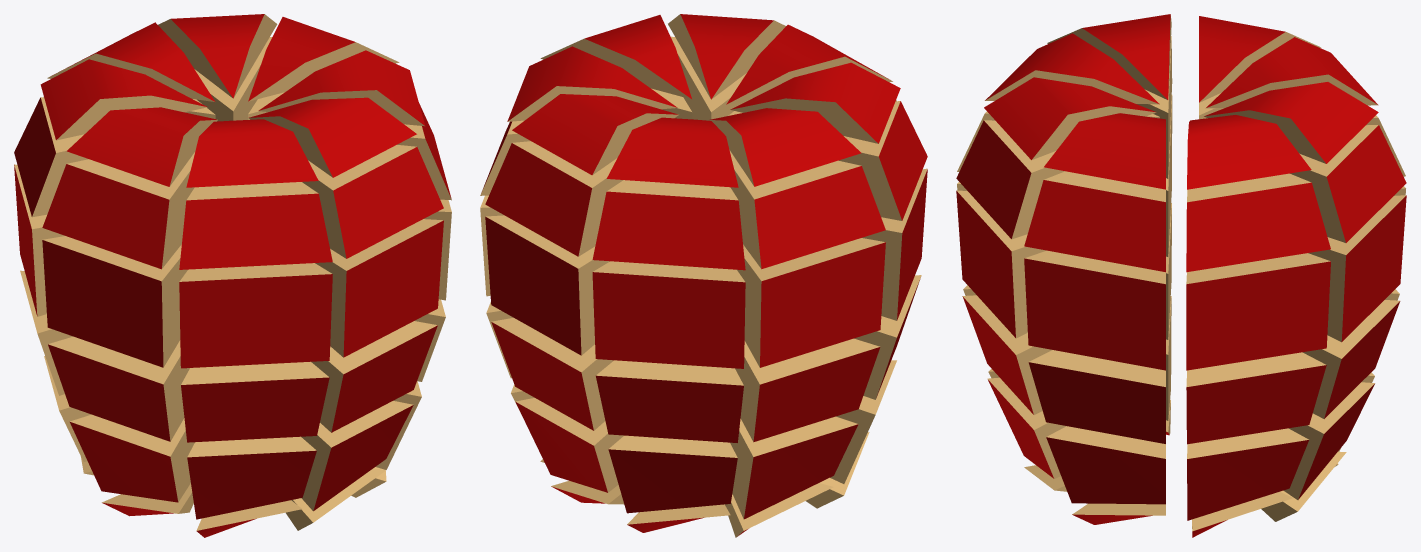
Rendered from mesh_apple_cut04.fbx.
3 views of the same model, side by side, from view 1: azimuth 30°, elevation 25°; view 2: azimuth 150°, elevation 25°; view 3: azimuth 270°, elevation 25° (orthographic).
Parts seen in each view (by area): view 1: mesh_apple_cut04_slice05_piece03, mesh_apple_cut04_slice06_piece03, mesh_apple_cut04_slice05_piece02, mesh_apple_cut04_slice06_piece02, mesh_apple_cut04_slice04_piece03, mesh_apple_cut04_slice05_piece04, mesh_apple_cut04_slice04_piece02, mesh_apple_cut04_slice06_piece04, mesh_apple_cut04_slice05_piece05, mesh_apple_cut04_slice04_piece04, mesh_apple_cut04_slice06_piece05, mesh_apple_cut04_slice06_piece01 (+20 smaller); view 2: mesh_apple_cut04_slice08_piece03, mesh_apple_cut04_slice07_piece03, mesh_apple_cut04_slice08_piece02, mesh_apple_cut04_slice07_piece02, mesh_apple_cut04_slice01_piece03, mesh_apple_cut04_slice08_piece04, mesh_apple_cut04_slice07_piece04, mesh_apple_cut04_slice01_piece02, mesh_apple_cut04_slice08_piece05, mesh_apple_cut04_slice07_piece05, mesh_apple_cut04_slice07_piece01, mesh_apple_cut04_slice01_piece01 (+19 smaller); view 3: mesh_apple_cut04_slice02_piece03, mesh_apple_cut04_slice03_piece03, mesh_apple_cut04_slice02_piece02, mesh_apple_cut04_slice03_piece02, mesh_apple_cut04_slice02_piece04, mesh_apple_cut04_slice03_piece04, mesh_apple_cut04_slice02_piece05, mesh_apple_cut04_slice03_piece05, mesh_apple_cut04_slice01_piece03, mesh_apple_cut04_slice01_piece02, mesh_apple_cut04_slice02_piece01, mesh_apple_cut04_slice04_piece01 (+19 smaller).
Boxes of the visible parts, box(x1,y1,x2,y2) form: mesh_apple_cut04_slice05_piece03: box(179, 263, 332, 368); mesh_apple_cut04_slice06_piece03: box(42, 236, 187, 367); mesh_apple_cut04_slice05_piece02: box(179, 182, 332, 269); mesh_apple_cut04_slice06_piece02: box(42, 152, 194, 269); mesh_apple_cut04_slice04_piece03: box(315, 219, 443, 357); mesh_apple_cut04_slice05_piece04: box(181, 361, 329, 442); mesh_apple_cut04_slice04_piece02: box(302, 145, 443, 258); mesh_apple_cut04_slice06_piece04: box(48, 336, 189, 441); mesh_apple_cut04_slice05_piece05: box(187, 436, 316, 519); mesh_apple_cut04_slice04_piece04: box(311, 321, 437, 432); mesh_apple_cut04_slice06_piece05: box(70, 414, 194, 502); mesh_apple_cut04_slice06_piece01: box(67, 107, 217, 186); mesh_apple_cut04_slice08_piece03: box(592, 261, 745, 368); mesh_apple_cut04_slice07_piece03: box(737, 238, 885, 367); mesh_apple_cut04_slice08_piece02: box(592, 180, 745, 270); mesh_apple_cut04_slice07_piece02: box(729, 150, 885, 269); mesh_apple_cut04_slice01_piece03: box(485, 215, 609, 355); mesh_apple_cut04_slice08_piece04: box(596, 360, 743, 442); mesh_apple_cut04_slice07_piece04: box(735, 338, 880, 442); mesh_apple_cut04_slice01_piece02: box(485, 141, 623, 256); mesh_apple_cut04_slice08_piece05: box(608, 435, 737, 513); mesh_apple_cut04_slice07_piece05: box(730, 416, 858, 519); mesh_apple_cut04_slice07_piece01: box(710, 108, 861, 186); mesh_apple_cut04_slice01_piece01: box(512, 94, 678, 175); mesh_apple_cut04_slice02_piece03: box(1186, 253, 1330, 370); mesh_apple_cut04_slice03_piece03: box(1024, 250, 1165, 370); mesh_apple_cut04_slice02_piece02: box(1186, 173, 1330, 272); mesh_apple_cut04_slice03_piece02: box(1024, 171, 1165, 272); mesh_apple_cut04_slice02_piece04: box(1186, 352, 1326, 444); mesh_apple_cut04_slice03_piece04: box(1028, 350, 1165, 443); mesh_apple_cut04_slice02_piece05: box(1187, 428, 1308, 520); mesh_apple_cut04_slice03_piece05: box(1046, 426, 1165, 504); mesh_apple_cut04_slice01_piece03: box(1308, 195, 1406, 342); mesh_apple_cut04_slice01_piece02: box(1290, 125, 1406, 242); mesh_apple_cut04_slice02_piece01: box(1187, 115, 1311, 189); mesh_apple_cut04_slice04_piece01: box(984, 77, 1156, 160).
Size of the model in its own units: 0.1683 by 0.1698 by 0.169.
